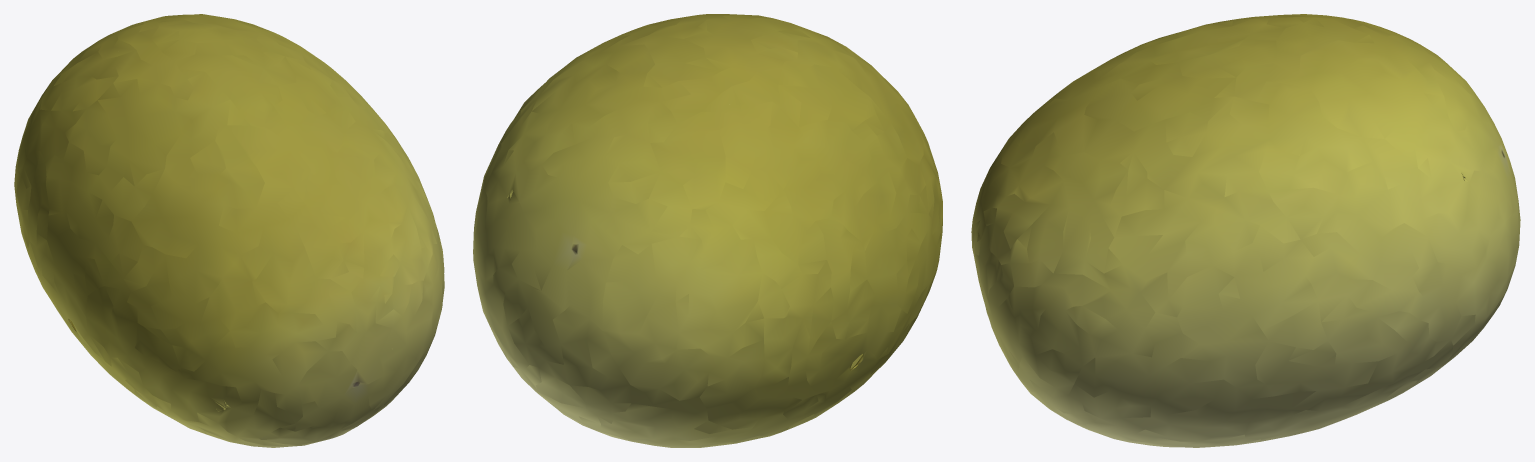
Rendered from 0002_mask_003_yellow_lemon.glb.
3 views of the same model, side by side, from view 1: azimuth 30°, elevation 25°; view 2: azimuth 150°, elevation 25°; view 3: azimuth 270°, elevation 25° (orthographic). The views are drawn at different scales.
Parts seen in each view (by area): view 1: mask_003_object; view 2: mask_003_object; view 3: mask_003_object.
Boxes of the visible parts, box(x1,y1,x2,y2) form: mask_003_object: box(14, 14, 444, 447); mask_003_object: box(473, 14, 942, 447); mask_003_object: box(971, 14, 1520, 447).
Bounding box in the file's own units: 0.1665 × 0.1738 × 0.2208.
